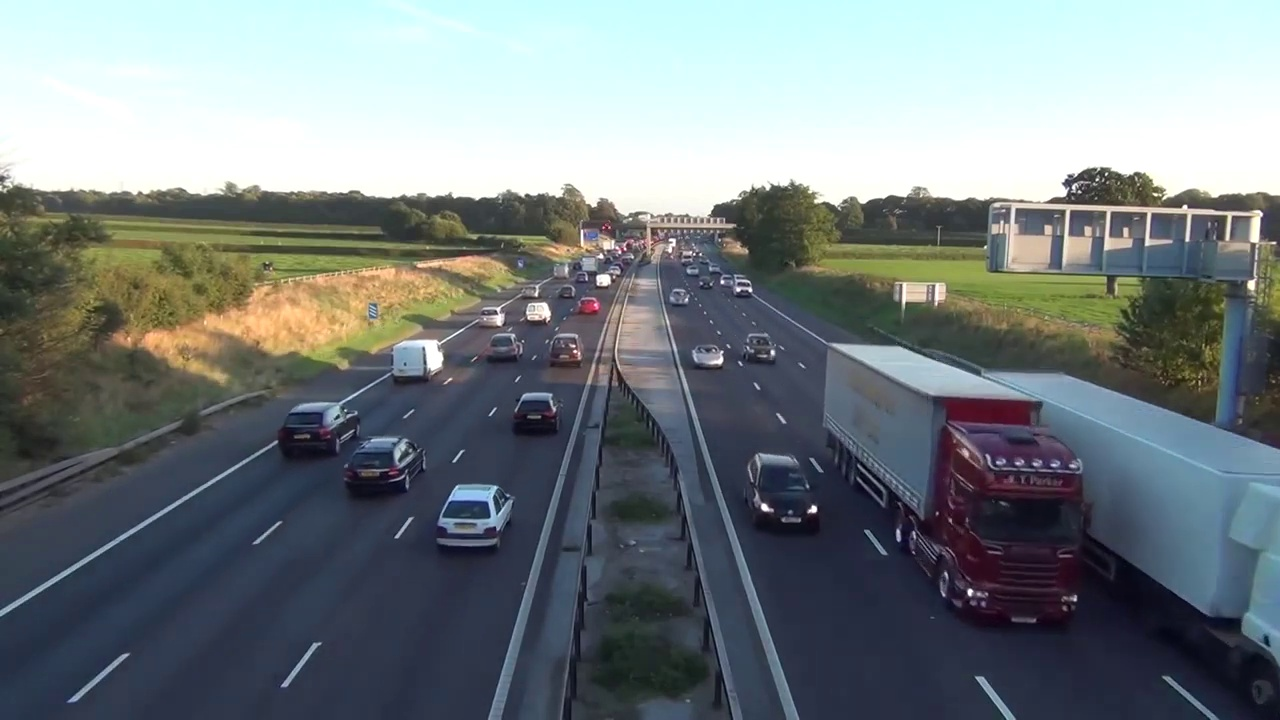bus: (743, 453, 821, 532), (435, 483, 514, 550), (344, 436, 426, 492), (279, 401, 361, 455), (514, 392, 562, 433), (485, 333, 524, 362), (549, 334, 583, 365), (743, 334, 776, 363), (692, 344, 727, 369), (478, 307, 505, 327), (667, 287, 689, 306), (576, 298, 599, 315), (698, 276, 713, 289)
car: (822, 343, 1079, 624)
lorry: (390, 339, 444, 380), (525, 303, 552, 324), (733, 278, 752, 296)
